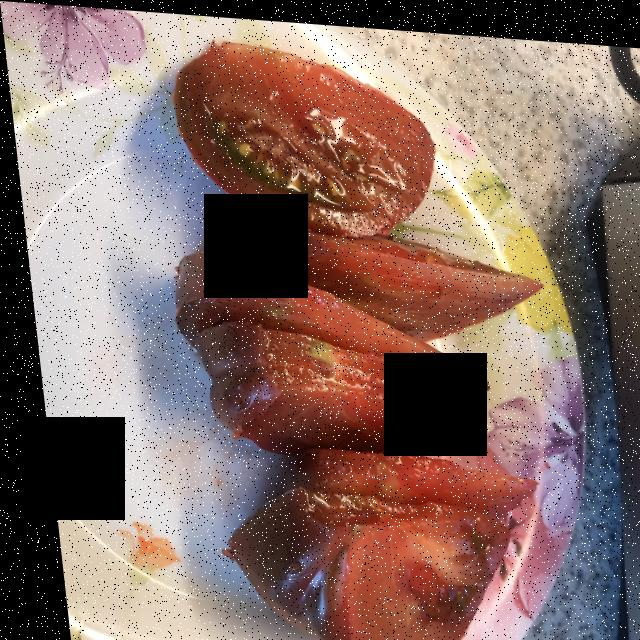tomato-raw: (173, 46, 518, 640)
